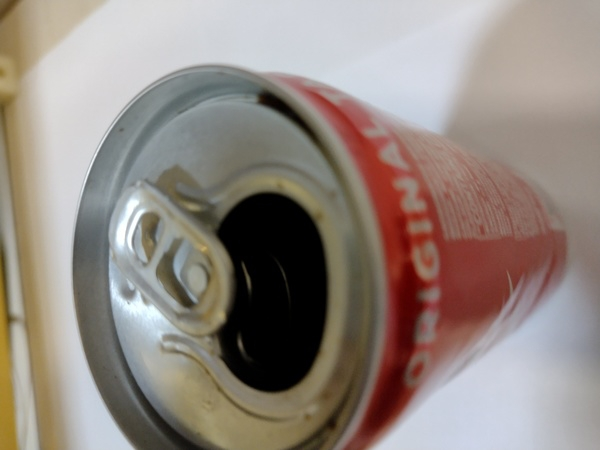can: (65, 51, 569, 448)
